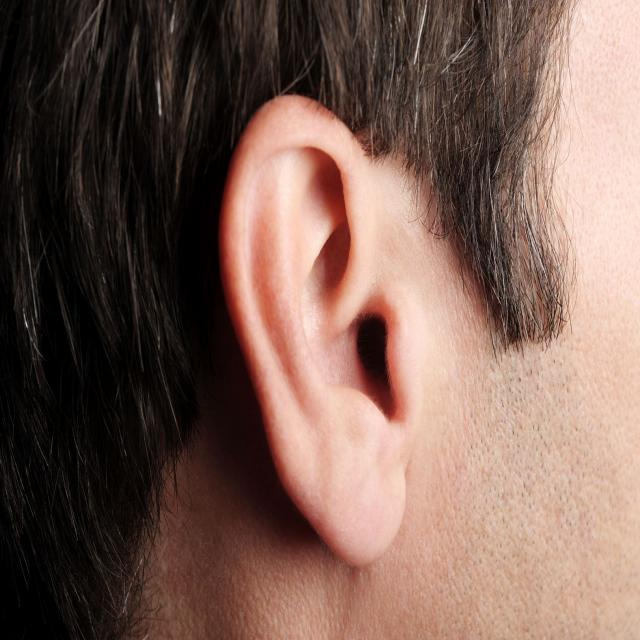earlobe: (219, 94, 406, 570)
